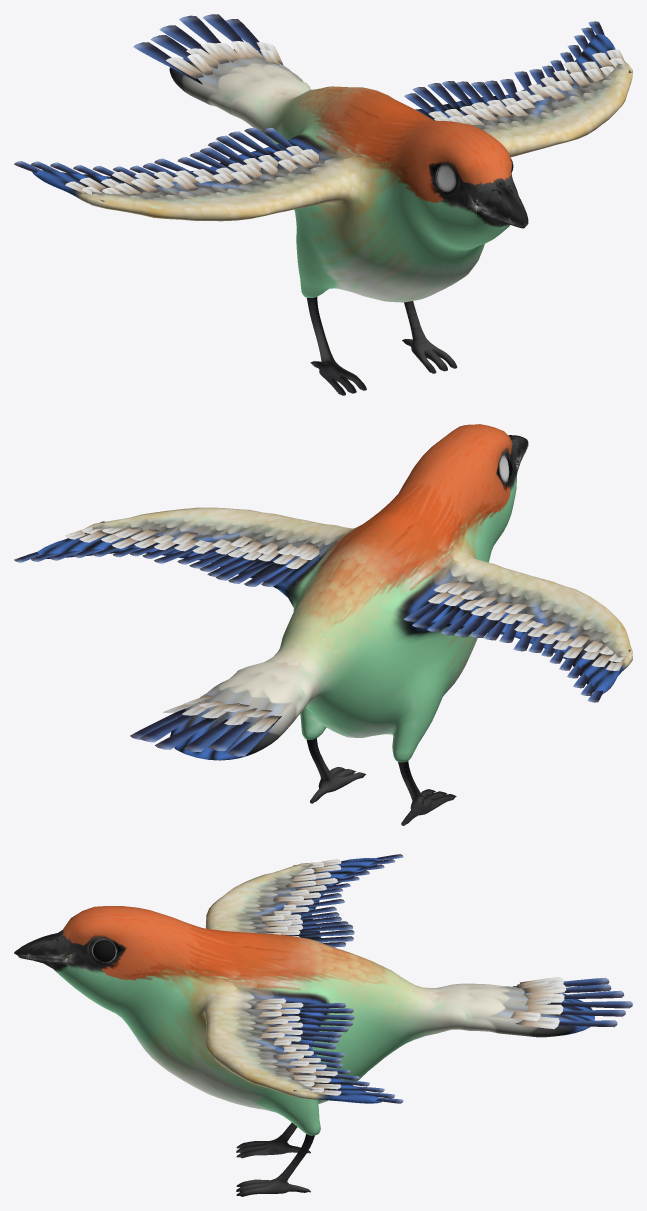
Rendered from bird3.obj.
3 renders of one model, top to bottom at view 1: azimuth 30°, elevation 25°; view 2: azimuth 150°, elevation 25°; view 3: azimuth 270°, elevation 25°, orthographic. The views are drawn at different scales.
Parts seen in each view (by area): view 1: CUERPO, PLUMA_COLA, PRUMA1_28, PLUMA1_28, PRUMA2_2, PLUMA2_2, R_PATA, L_PATA; view 2: CUERPO, PLUMA_COLA, PLUMA1_28, PRUMA1_28, PRUMA2_2, PLUMA2_2, L_PATA, R_PATA; view 3: CUERPO, PLUMA_COLA, PLUMA1_28, PLUMA2_2, PRUMA2_2, PRUMA1_28, L_PATA, R_PATA.
Boxes of the visible parts, left/top/right/bottom form: CUERPO: left=32, top=34, right=632, bottom=302; PLUMA_COLA: left=133, top=14, right=283, bottom=84; PRUMA1_28: left=65, top=146, right=318, bottom=201; PLUMA1_28: left=428, top=49, right=631, bottom=125; PRUMA2_2: left=14, top=127, right=292, bottom=179; PLUMA2_2: left=404, top=21, right=604, bottom=114; R_PATA: left=307, top=297, right=366, bottom=395; L_PATA: left=402, top=301, right=457, bottom=373; CUERPO: left=35, top=424, right=632, bottom=762; PLUMA_COLA: left=130, top=695, right=281, bottom=756; PLUMA1_28: left=65, top=521, right=319, bottom=568; PRUMA1_28: left=428, top=581, right=630, bottom=670; PRUMA2_2: left=404, top=602, right=603, bottom=702; PLUMA2_2: left=14, top=543, right=294, bottom=586; L_PATA: left=306, top=738, right=365, bottom=803; R_PATA: left=398, top=761, right=456, bottom=825; CUERPO: left=14, top=858, right=594, bottom=1135; PLUMA_COLA: left=510, top=977, right=632, bottom=1029; PLUMA1_28: left=251, top=998, right=341, bottom=1095; PLUMA2_2: left=291, top=1003, right=403, bottom=1103; PRUMA2_2: left=291, top=854, right=403, bottom=947; PRUMA1_28: left=260, top=859, right=341, bottom=937; L_PATA: left=236, top=1134, right=314, bottom=1196; R_PATA: left=236, top=1122, right=310, bottom=1158.
Size of the model in its own units: 1.42 by 0.6997 by 1.49.
